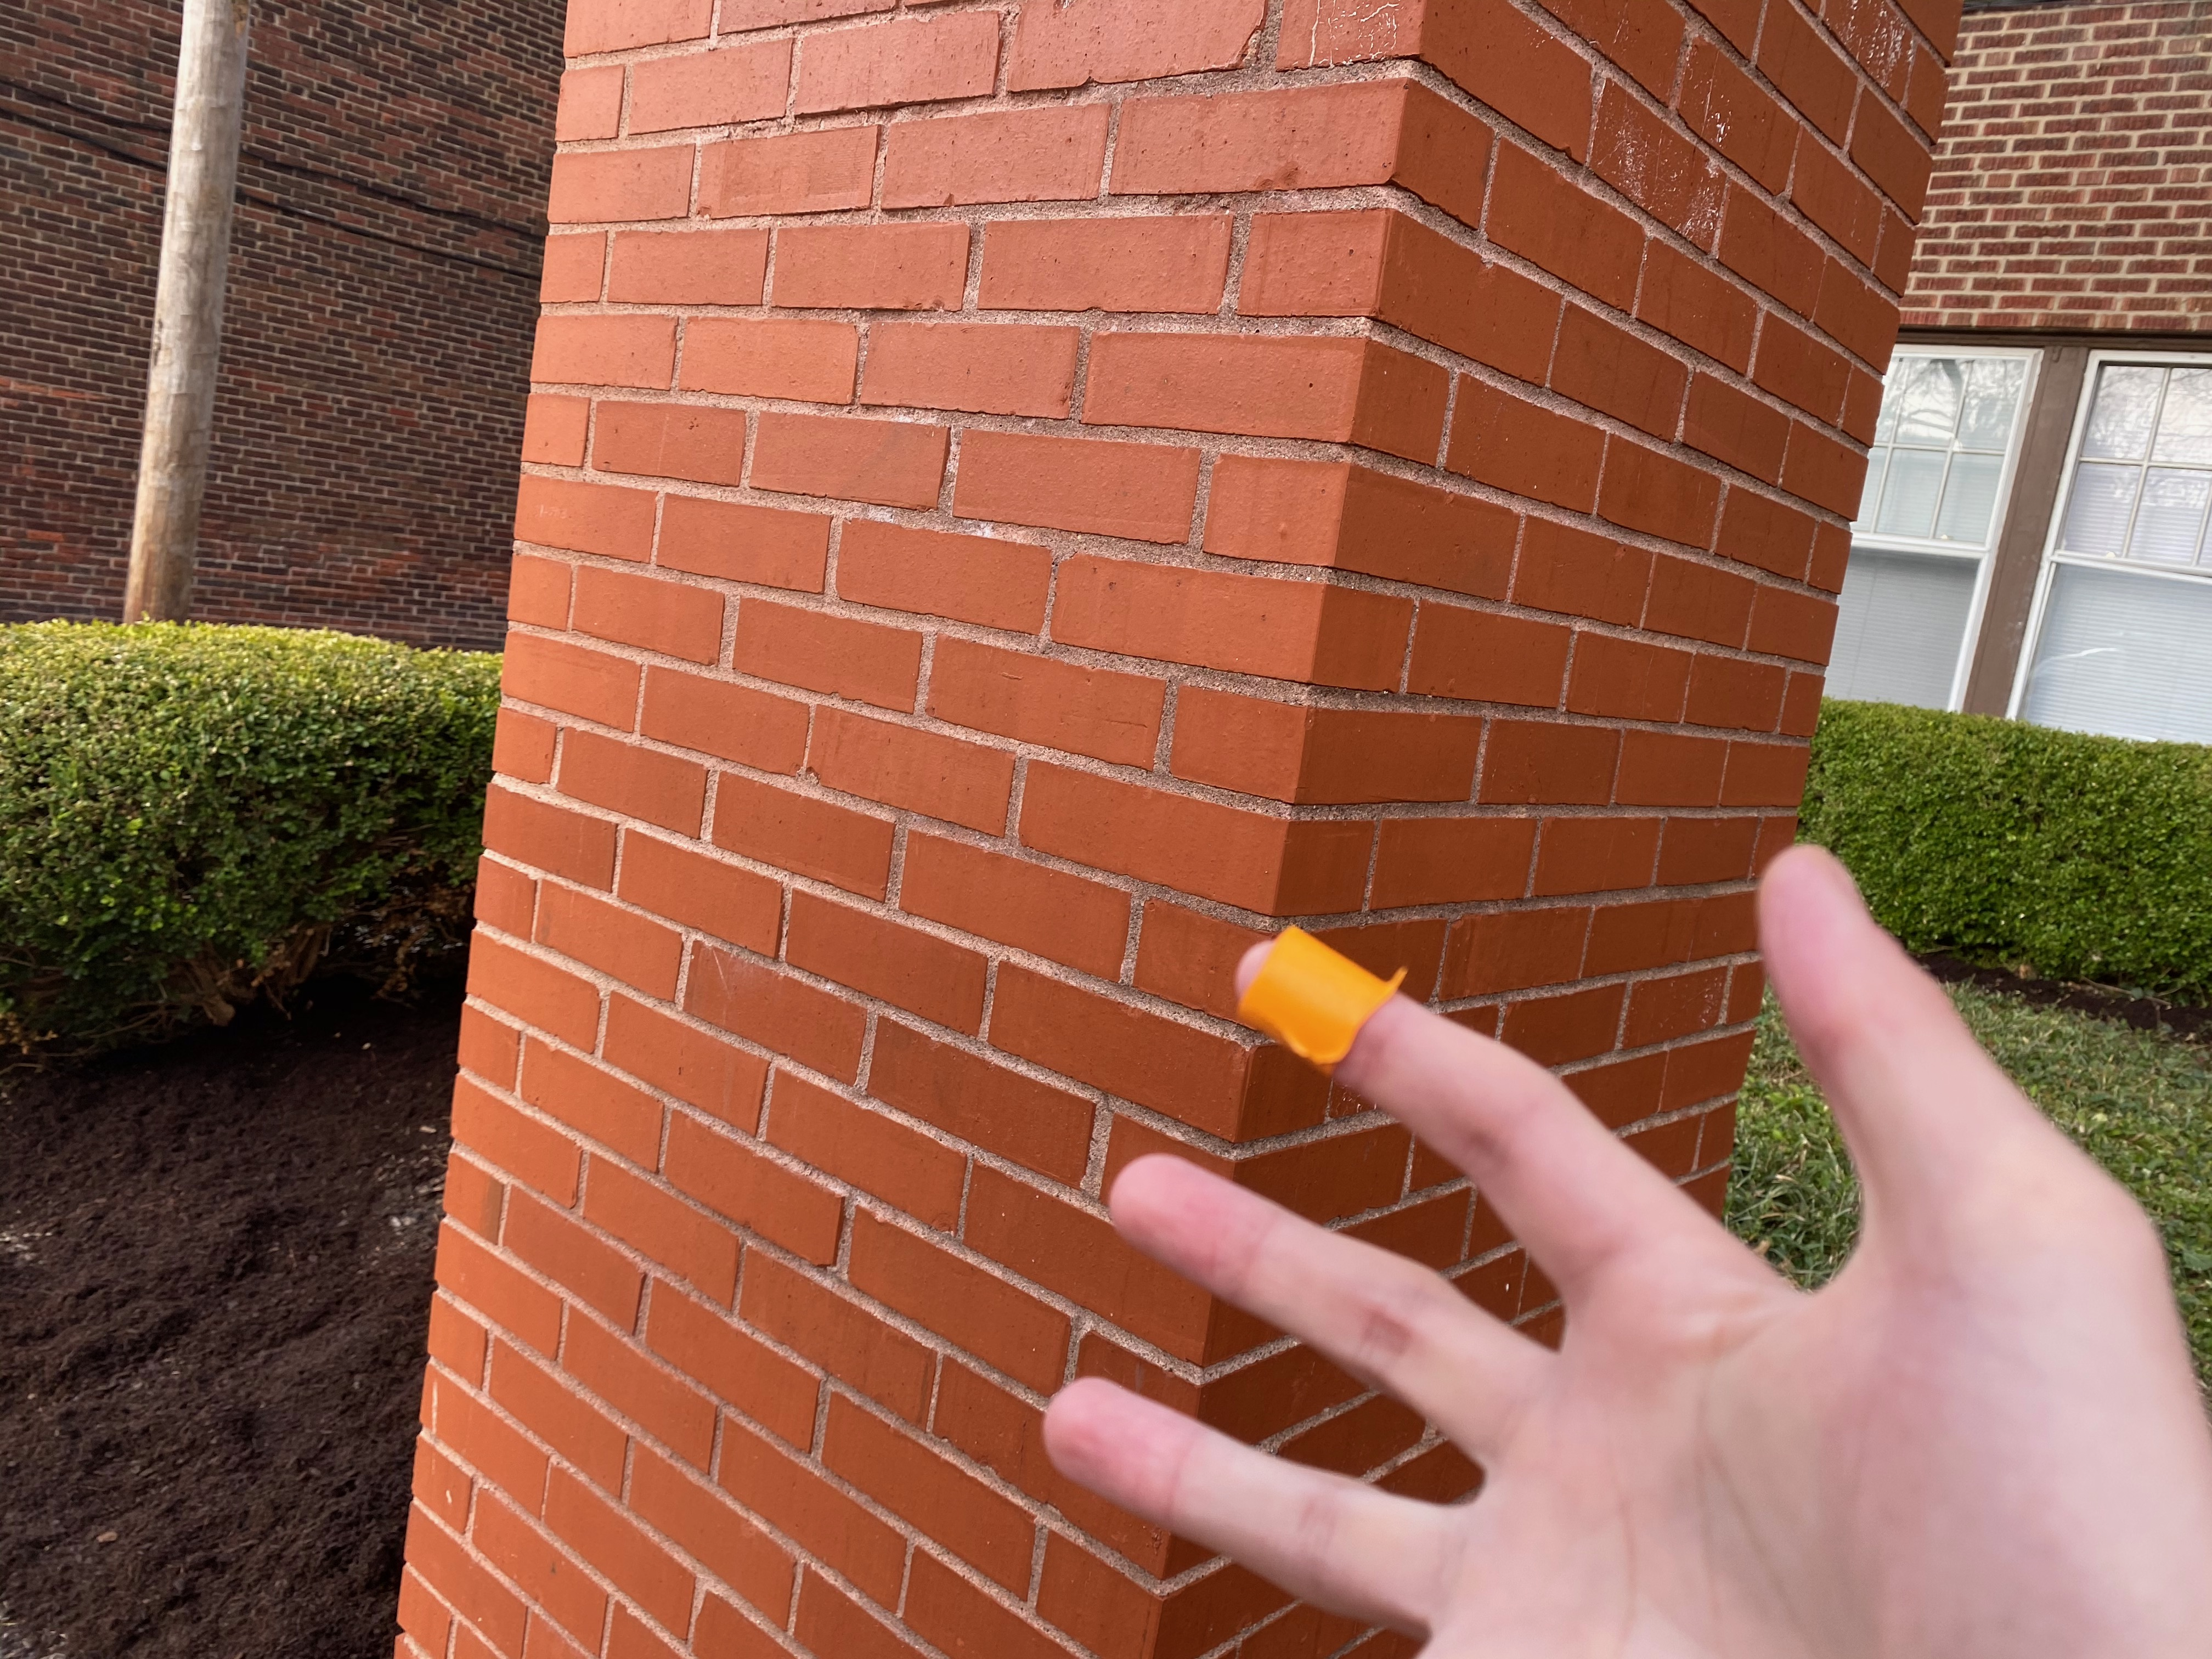fingertip: (1190, 913, 1442, 1107)
